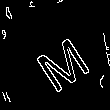M_NW: (22, 21, 88, 89)
